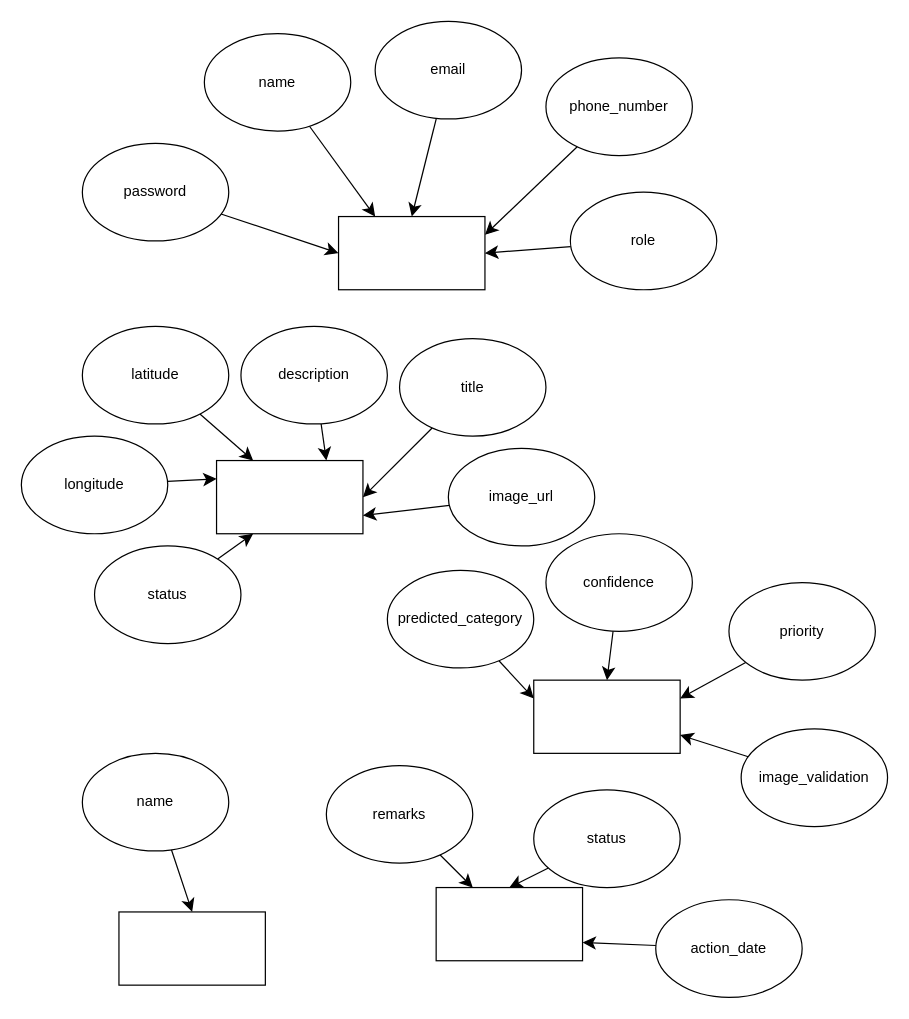
This 909x1019 diagram has some shape labels left out. The shapes that lost their labels are listed below. From the top down, each one's centre as x and y in pixels, then its label:
At [411,252]: "User".
At [289,496]: "Report".
At [606,716]: "AI_Analysis".
At [509,923]: "Authority_Action".
At [191,948]: "Category".
